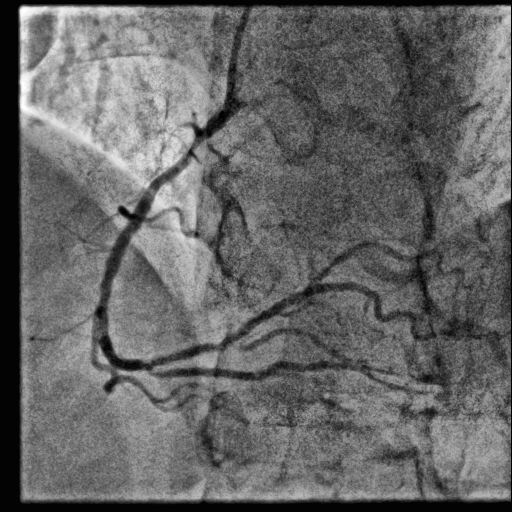pborca: (148, 241, 403, 367)
pda: (148, 360, 406, 392)
rca: (98, 96, 245, 372)
